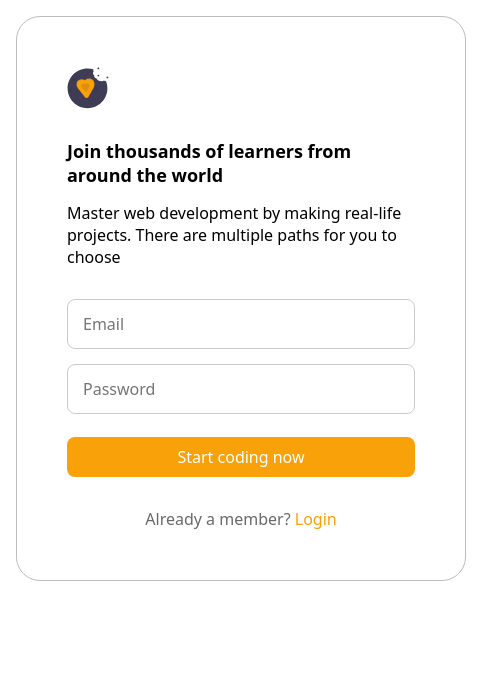
Scenario: <SignUpPage /> › Should display an error message if the registration fails
Type "test@test.com" into the field with placeholder "Email" at x=241, y=324, box [67,299,415,349]
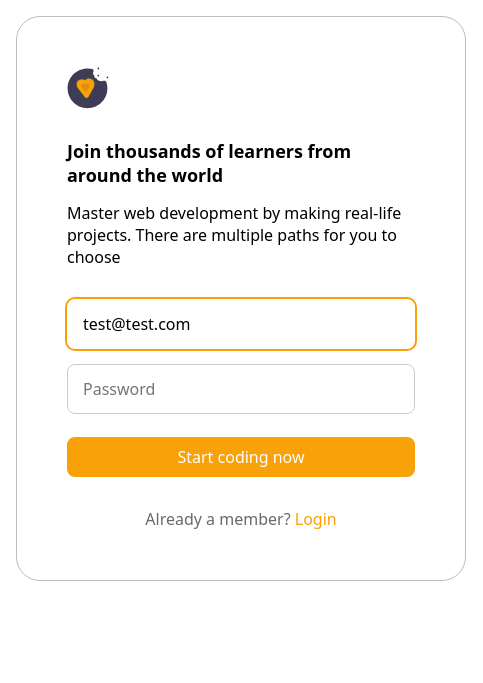
Type "Test1234" into the password field with placeholder "Password" at x=241, y=389, box [67,364,415,414]
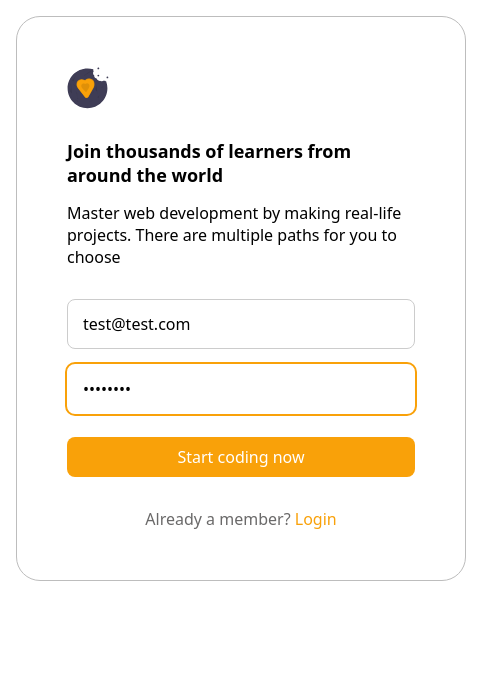
Click the button at x=241, y=457, box [67,437,415,477]
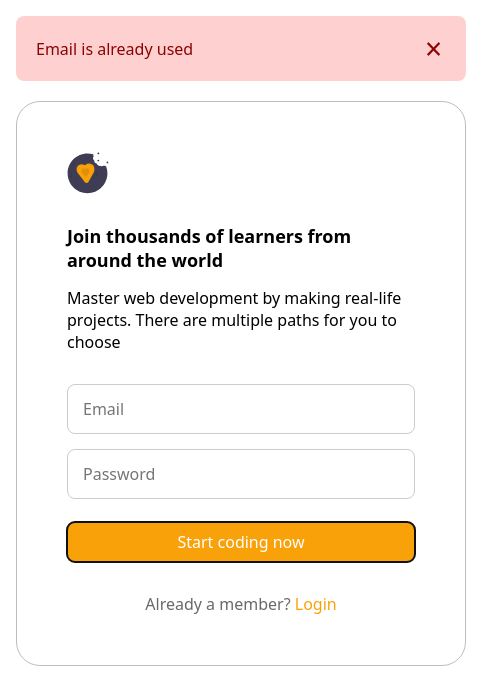
Result: the text "Email is already used" is shown at [36,38,193,60]
